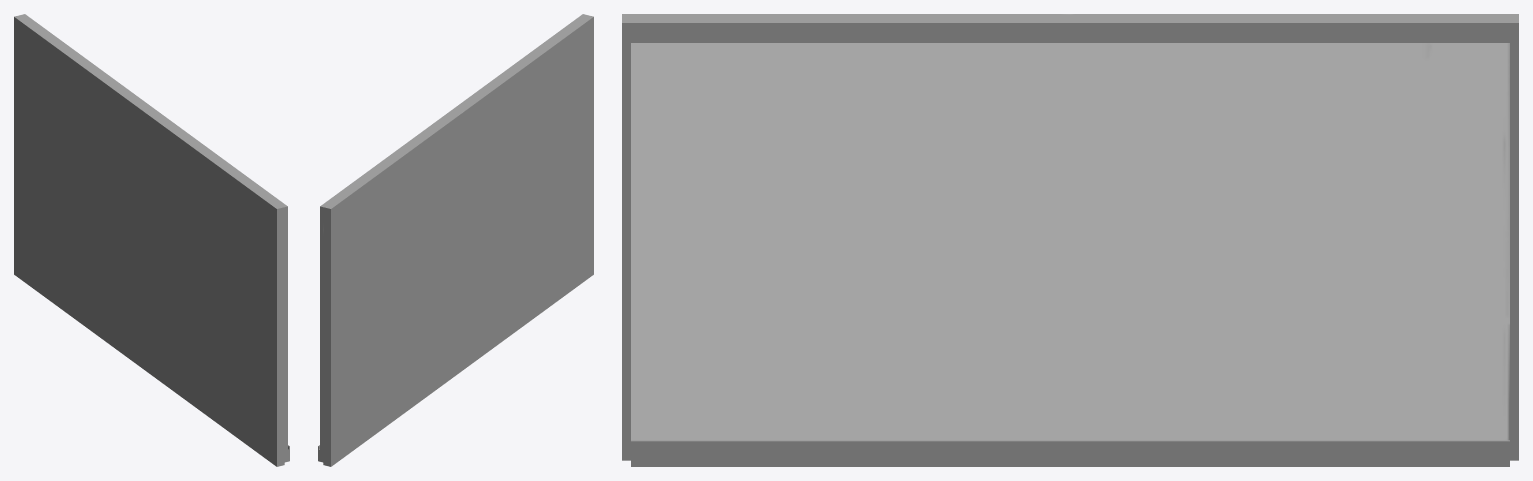
Rendered from board.obj.
3 views of the same model, side by side, from view 1: azimuth 30°, elevation 25°; view 2: azimuth 150°, elevation 25°; view 3: azimuth 270°, elevation 25° (orthographic). The views are drawn at different scales.
Parts seen in each view (by area): view 1: Cube; view 2: Cube; view 3: Cube.
Part boxes in pixels (<box>): Cube: <box>14,14,289,466</box>; Cube: <box>318,14,593,466</box>; Cube: <box>622,14,1518,466</box>.
Bounding box in the file's own units: 13.99 × 220 × 406.
Materials: 1 (1 with a texture image).
